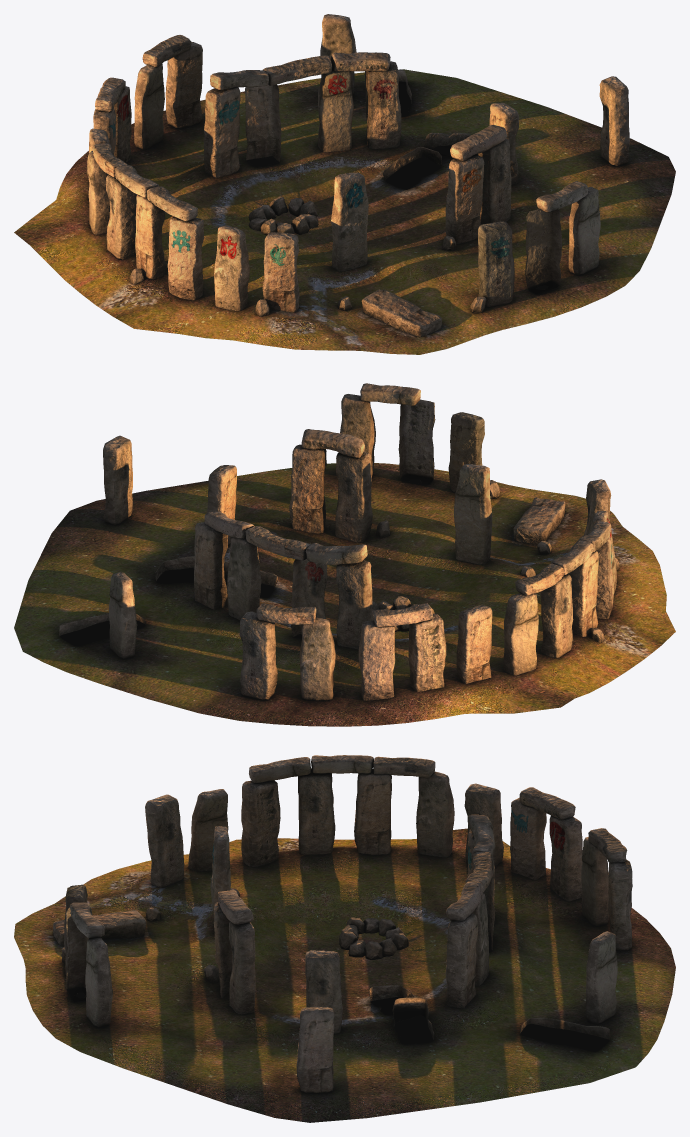
Rendered from stonehenge.glb.
The picture shows the model from 3 angles, top to bottom: view 1: azimuth 30°, elevation 25°; view 2: azimuth 150°, elevation 25°; view 3: azimuth 270°, elevation 25°; orthographic projection. The views are drawn at different scales.
Parts seen in each view (by area): view 1: Object_2, Object_3, Object_5, Object_7, Object_9, Object_8, Object_6, Object_4; view 2: Object_2, Object_7, Object_3, Object_5, Object_8, Object_9, Object_4; view 3: Object_2, Object_7, Object_3, Object_8, Object_5, Object_6, Object_9.
Part boxes in pixels (<box>): Object_2: <box>14,69,675,354</box>; Object_3: <box>147,124,600,336</box>; Object_5: <box>203,52,471,180</box>; Object_7: <box>86,35,202,279</box>; Object_9: <box>478,209,561,307</box>; Object_8: <box>320,14,629,184</box>; Object_6: <box>248,196,318,235</box>; Object_4: <box>129,235,486,316</box>; Object_2: <box>14,463,675,726</box>; Object_7: <box>239,540,598,700</box>; Object_3: <box>289,383,616,618</box>; Object_5: <box>155,511,373,649</box>; Object_8: <box>59,435,236,658</box>; Object_9: <box>398,399,484,492</box>; Object_4: <box>375,480,619,642</box>; Object_2: <box>14,828,675,1122</box>; Object_7: <box>298,755,632,950</box>; Object_3: <box>53,757,310,1027</box>; Object_8: <box>296,931,617,1092</box>; Object_5: <box>369,814,495,1039</box>; Object_6: <box>339,917,408,959</box>; Object_9: <box>64,884,88,1001</box>.
Size of the model in its own units: 1470 by 304 by 1405.
Materials: 8 (8 with a texture image).
